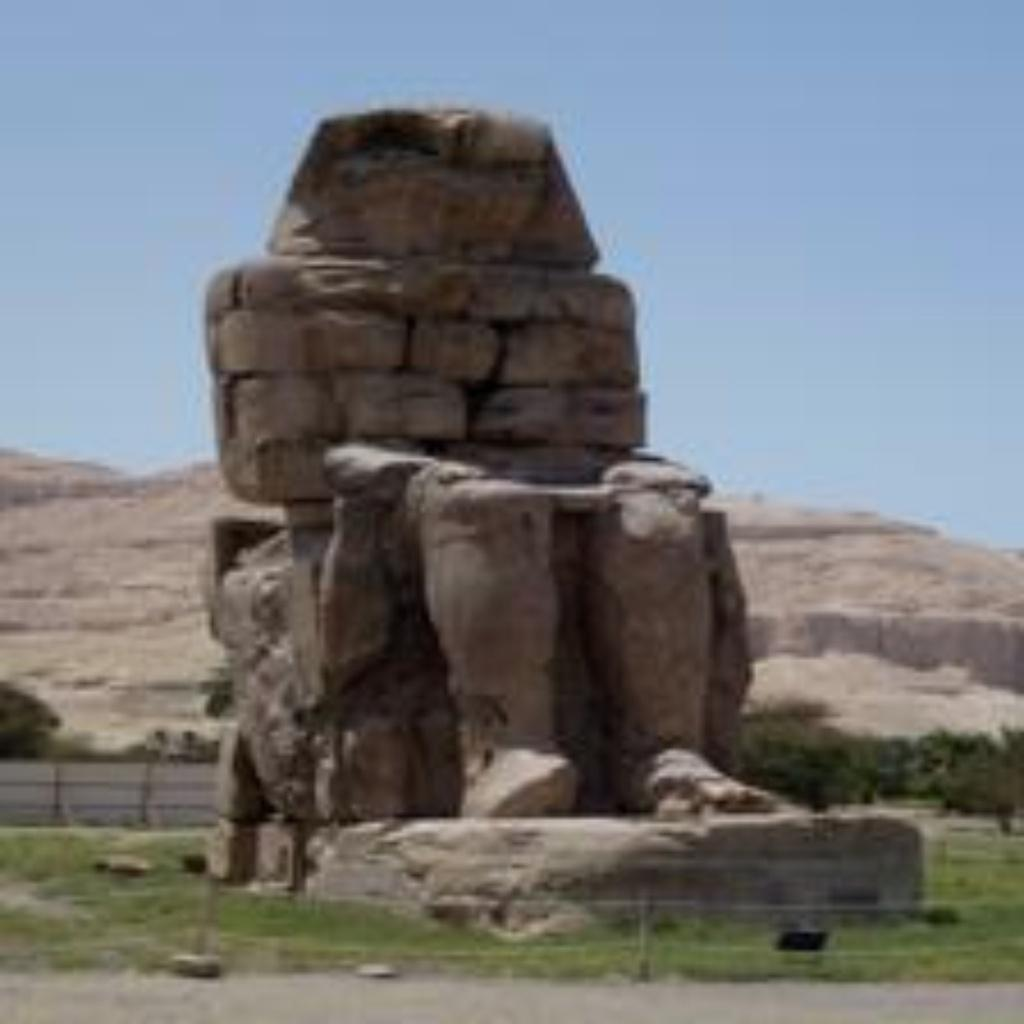Colossoi of Memnon: (96, 0, 1010, 1019)
